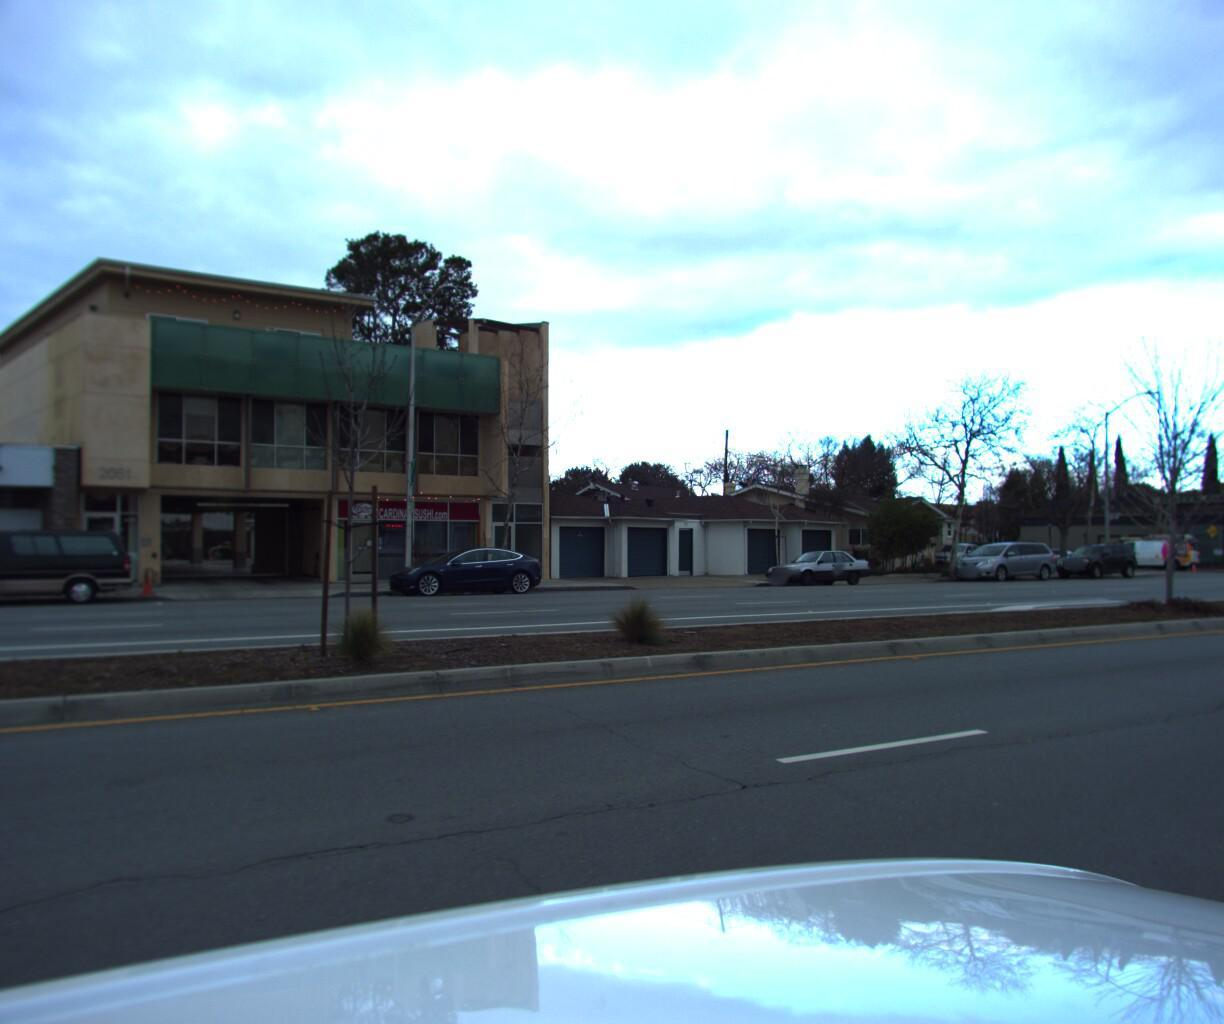car: (0, 526, 139, 613), (377, 542, 553, 600), (752, 544, 874, 586), (942, 537, 1058, 580), (1085, 529, 1198, 570), (1041, 537, 1136, 576), (922, 539, 986, 569)
